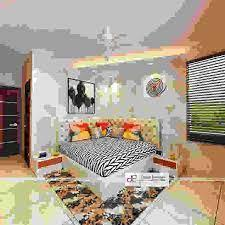bed: (54, 118, 162, 196)
fan: (93, 27, 132, 64)
table: (186, 177, 225, 225), (153, 154, 185, 179), (28, 153, 61, 176)
